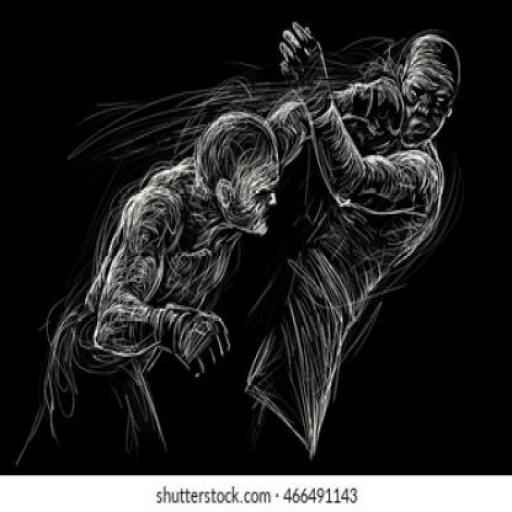Fighting: (18, 28, 460, 474)
